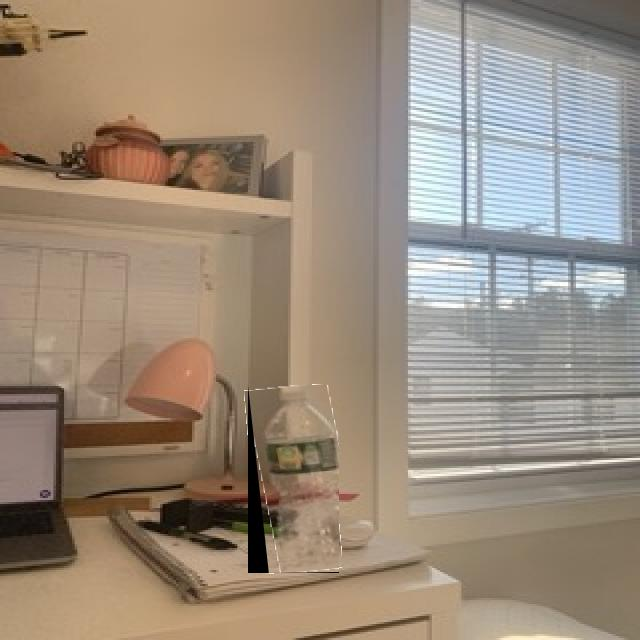water_bottle: (248, 385, 339, 573)
